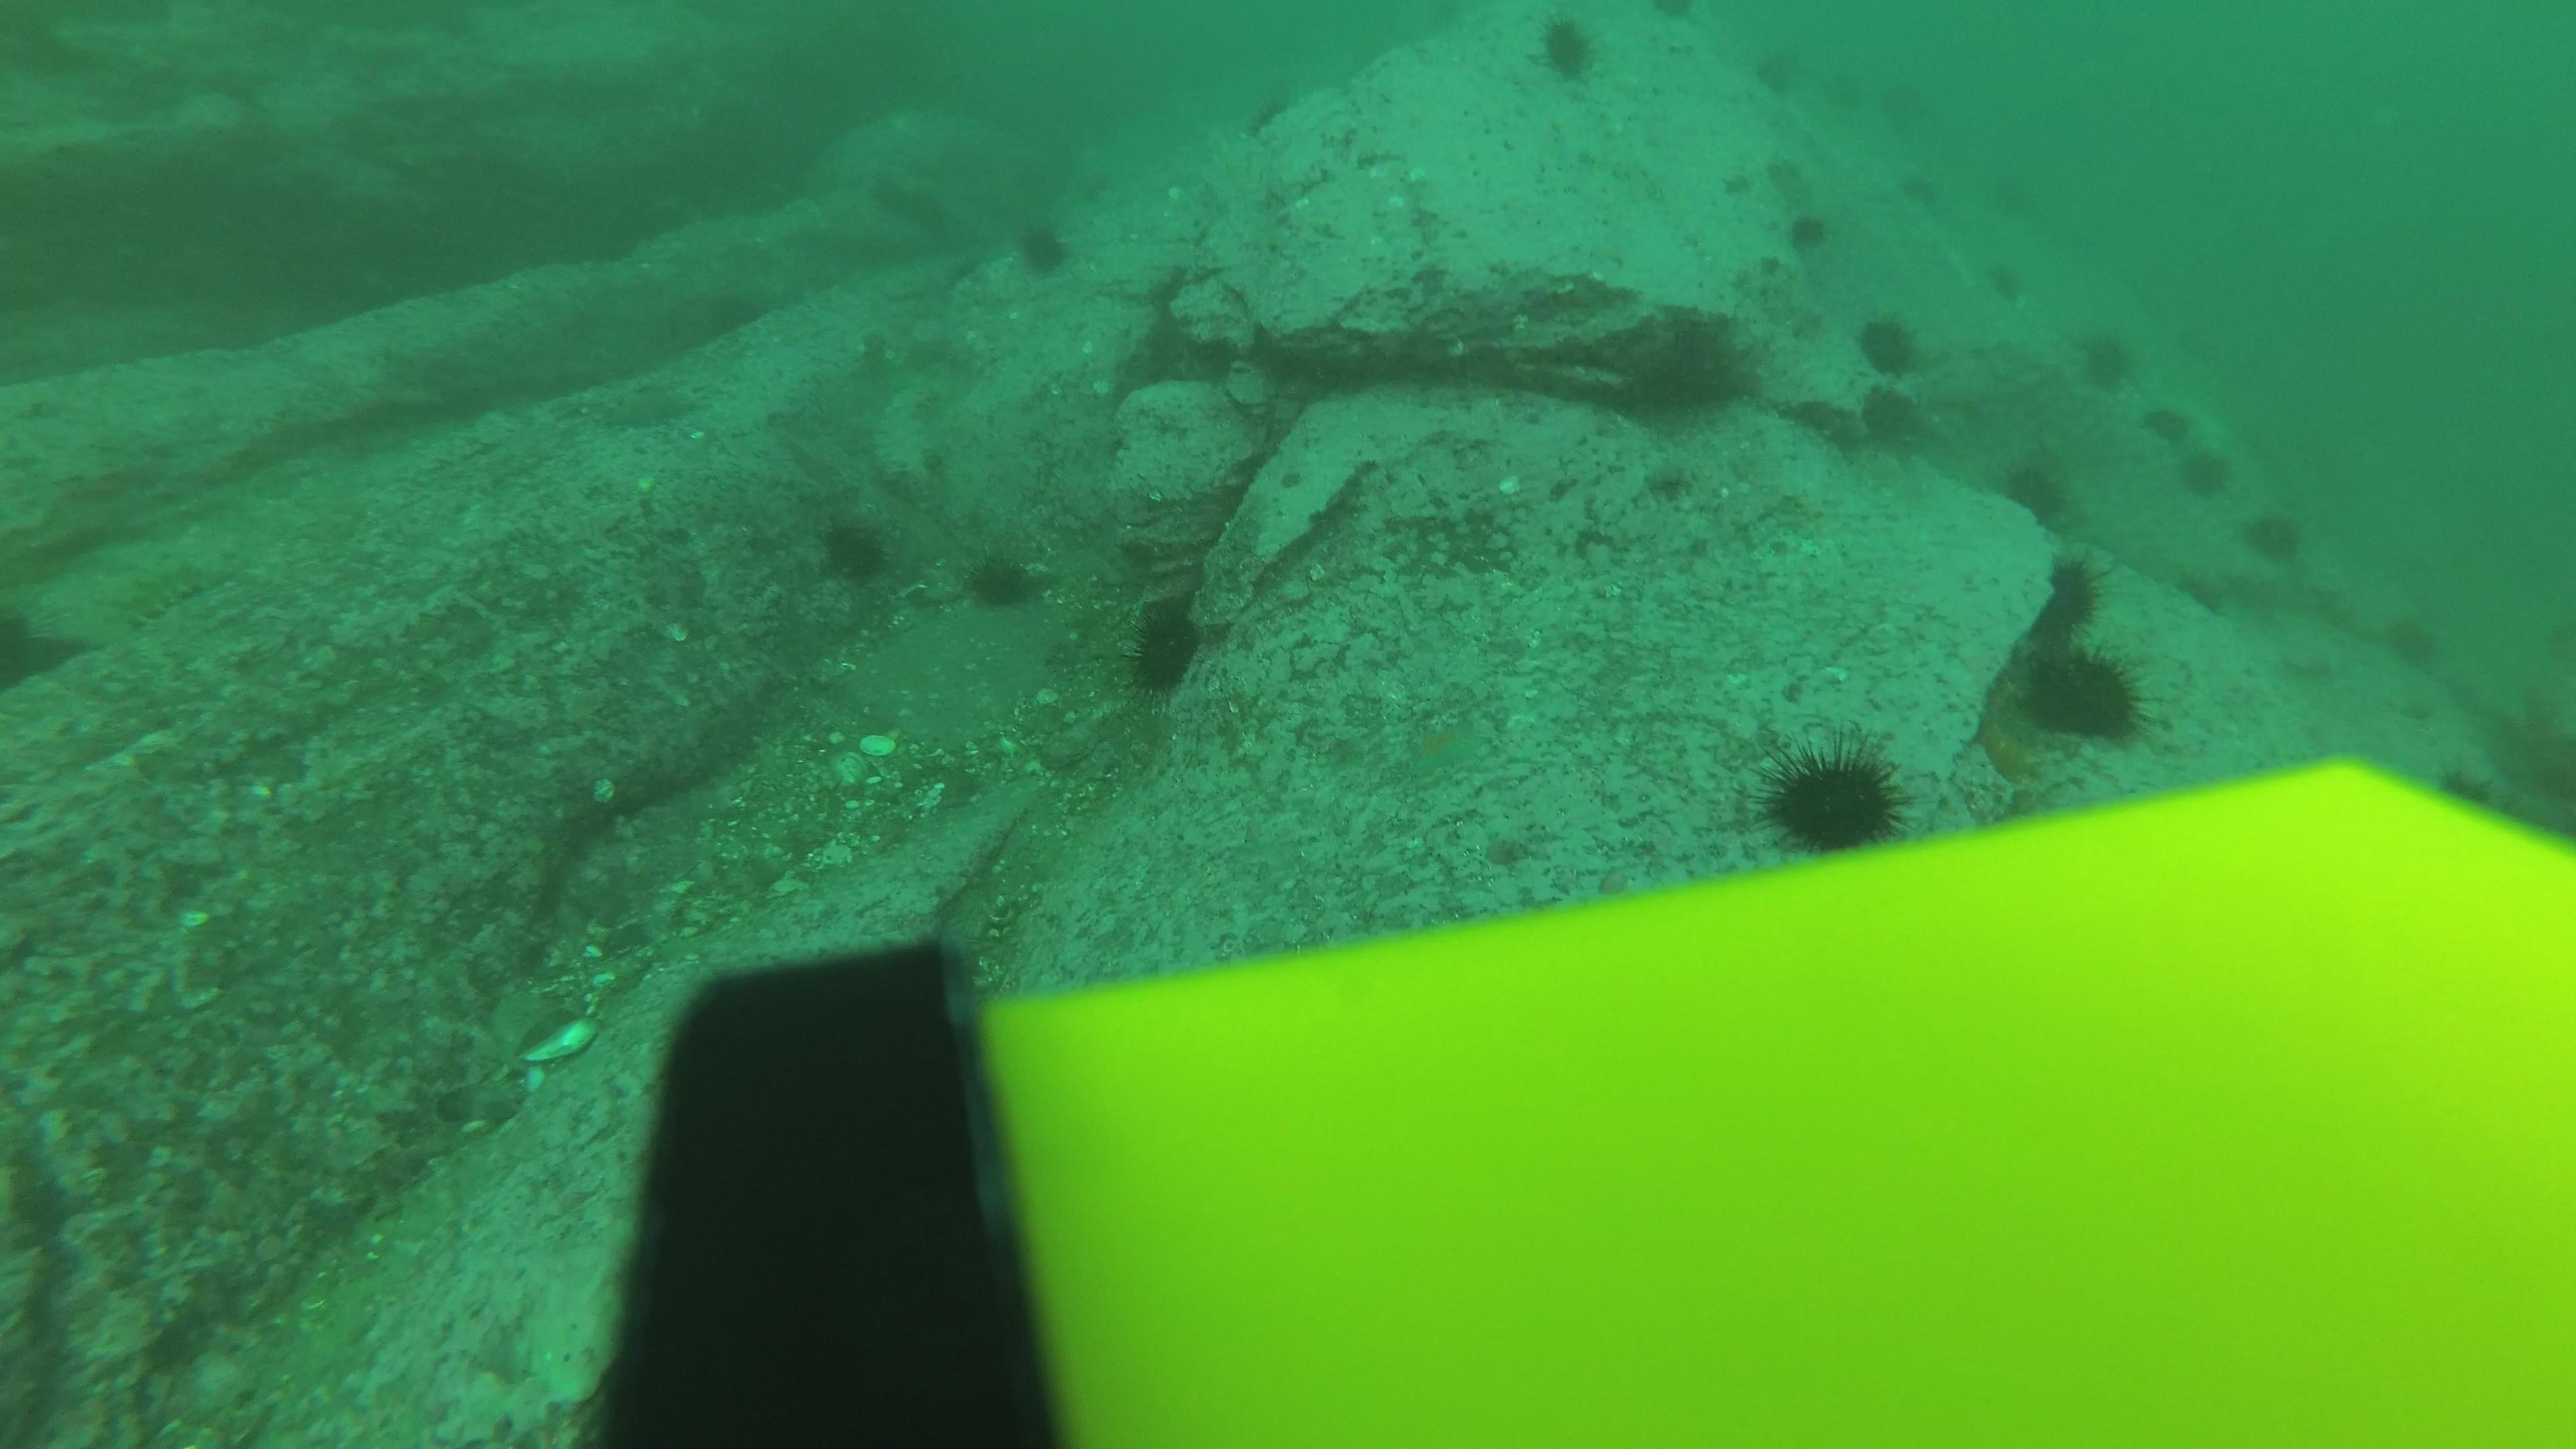echinus: (1759, 736, 1911, 856), (2013, 639, 2151, 748), (1120, 593, 1210, 699), (2024, 550, 2111, 646), (1997, 453, 2077, 531), (1844, 382, 1927, 456), (814, 511, 895, 586), (959, 543, 1044, 614), (1529, 12, 1605, 85), (1852, 308, 1925, 379), (1010, 214, 1076, 280), (2074, 324, 2137, 391), (2240, 504, 2309, 566), (2381, 609, 2443, 672), (2176, 442, 2233, 501), (2137, 393, 2190, 448), (1890, 166, 1941, 216), (1783, 205, 1833, 255), (1985, 258, 2035, 308), (1994, 166, 2043, 216), (1879, 76, 1928, 126), (1821, 67, 1870, 117), (1752, 48, 1801, 97), (1649, 0, 1695, 34)
starfish: (1391, 709, 1490, 786), (1969, 695, 2045, 786), (593, 377, 701, 435)
